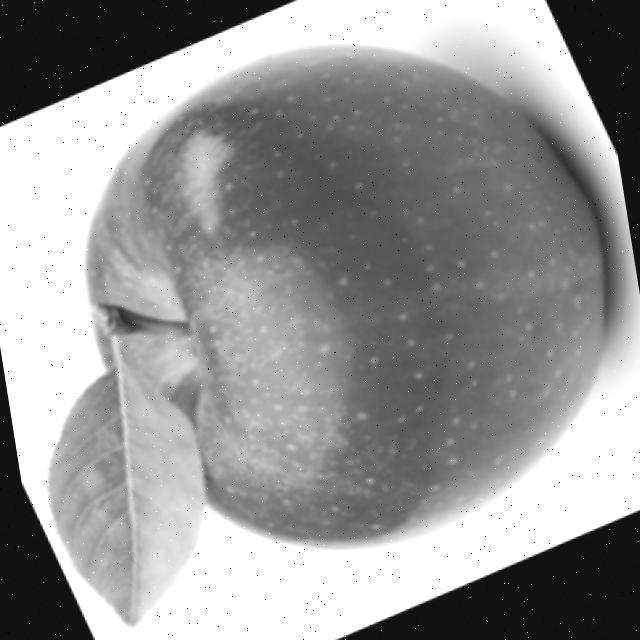Ripe: (42, 0, 640, 595)
